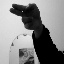h: (8, 2, 46, 31)
